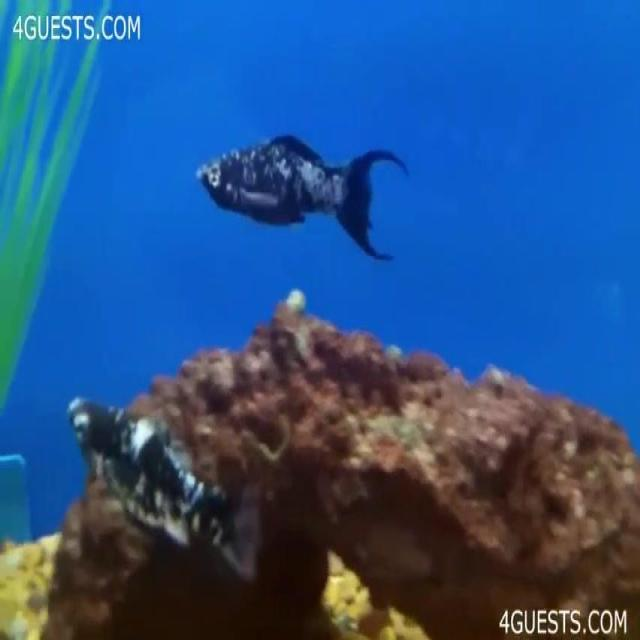PlatyFish: (178, 117, 410, 270)
